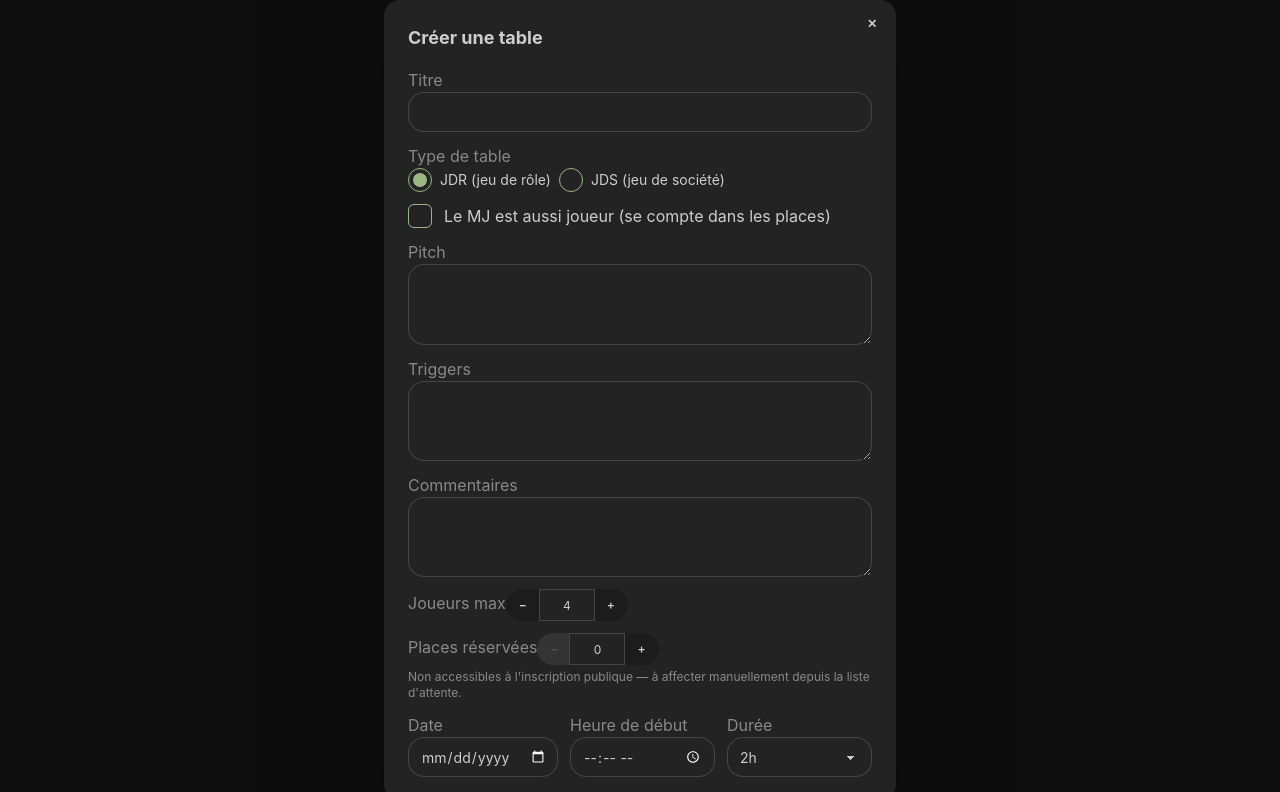
Test: CreateTableModal › caps the reserved seats stepper at the current maxPlayers value
The width and height of the screenshot is (1280, 792).
Click the button named "Augmenter": x=642, y=649 [624,633,659,665]
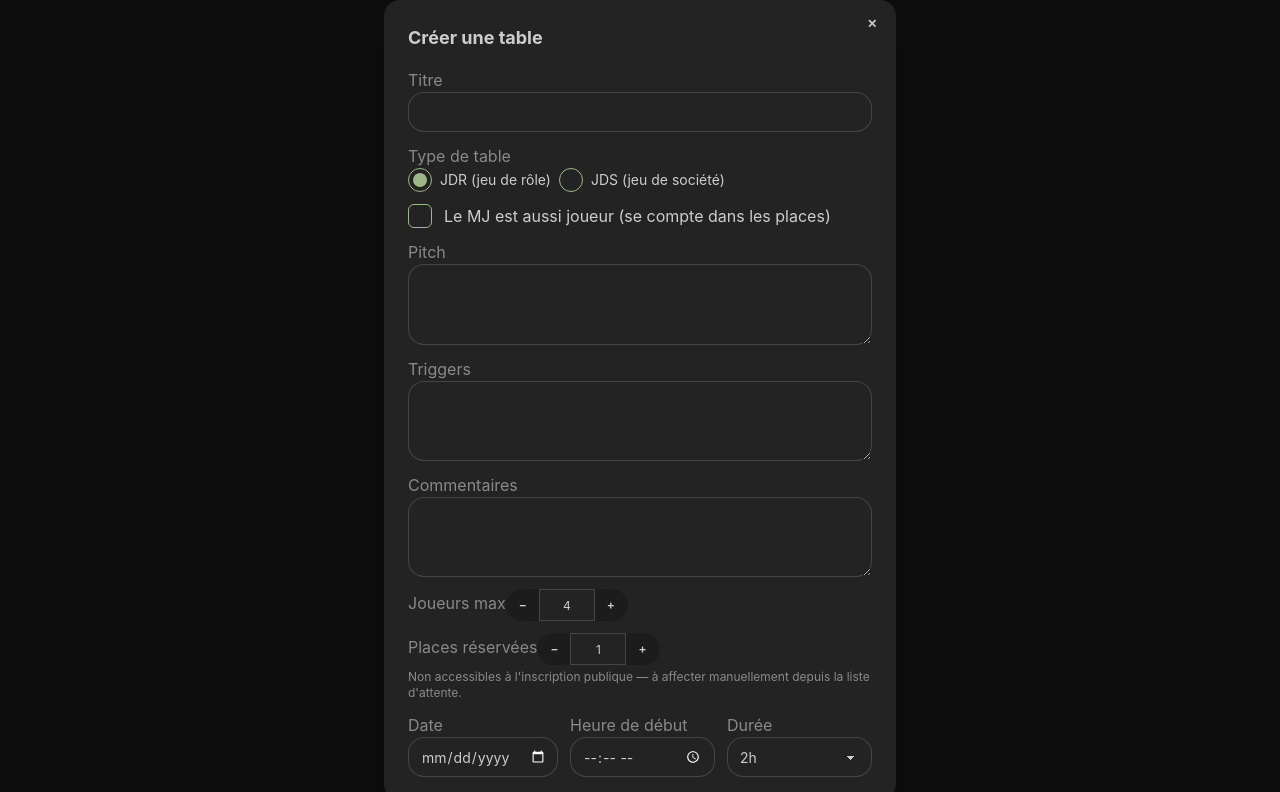
Click the button named "Augmenter": x=643, y=649 [626,633,660,665]
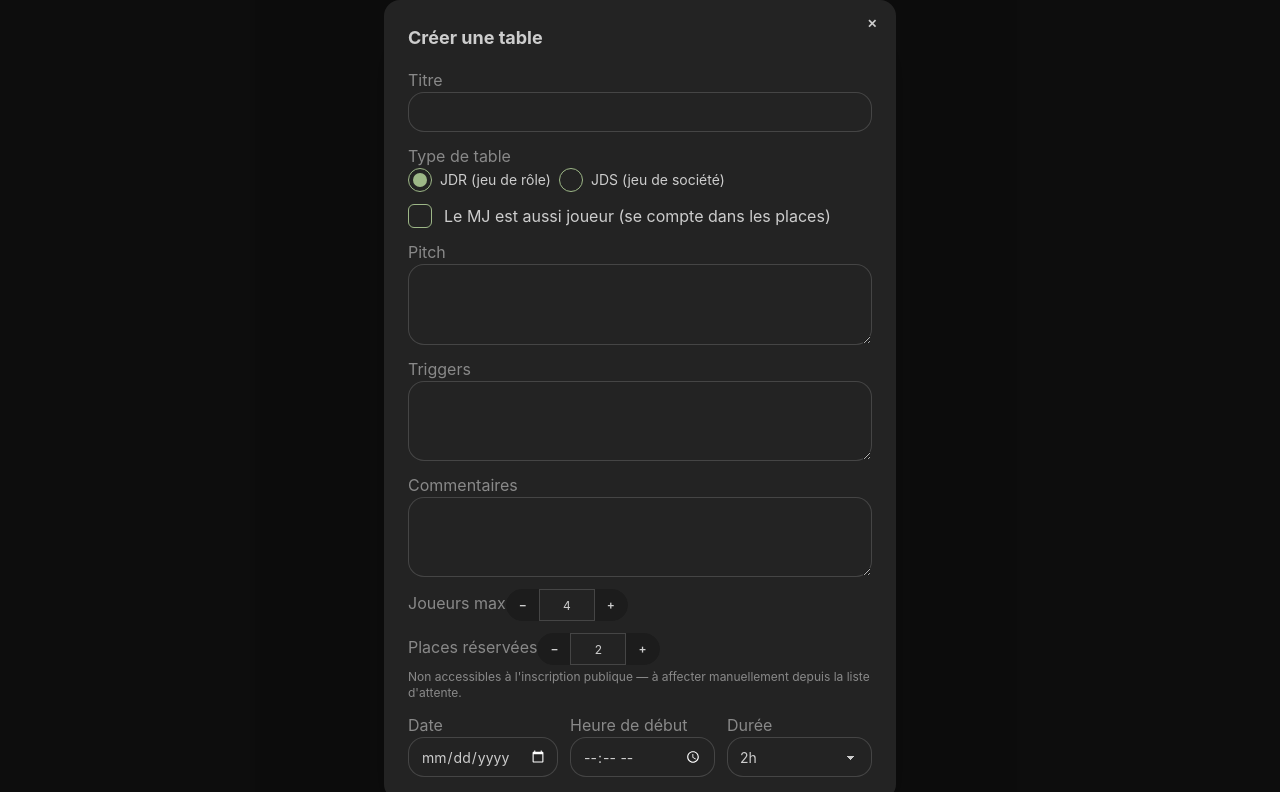
Click the button named "Augmenter": x=643, y=649 [626,633,660,665]
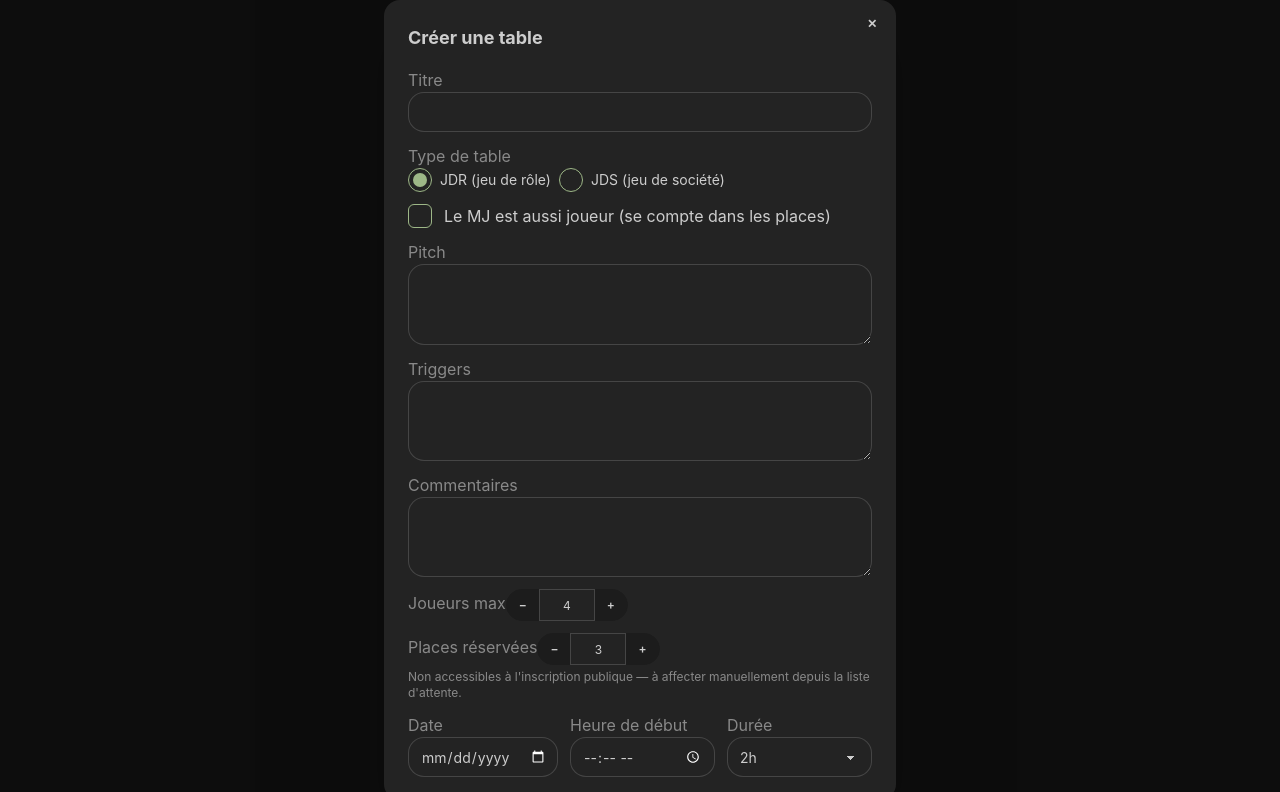
Click the button named "Augmenter": x=643, y=649 [626,633,660,665]
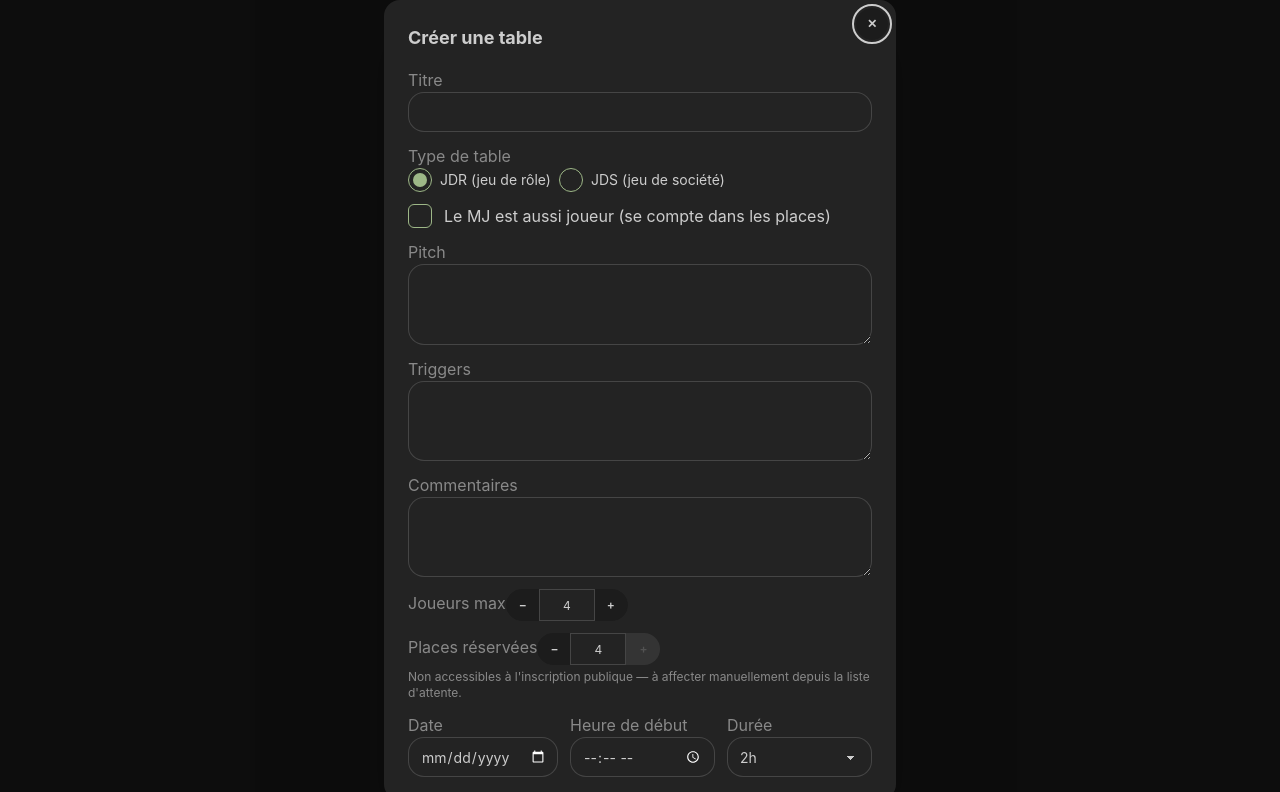
Now the field labelled "Places réservées" holds "4", box [570,633,626,665]
